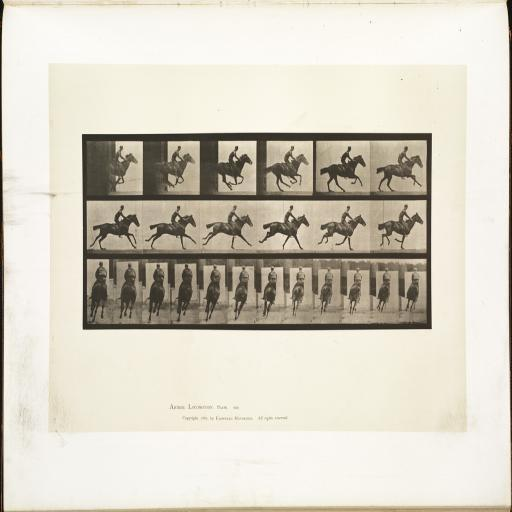horse: (142, 213, 198, 251), (88, 212, 140, 250), (316, 212, 366, 250), (202, 212, 254, 248), (264, 152, 310, 192), (320, 152, 366, 192), (376, 211, 424, 249), (378, 152, 422, 192), (260, 214, 311, 248), (154, 151, 196, 187), (215, 152, 253, 190), (106, 151, 140, 191), (88, 282, 108, 325), (176, 283, 194, 324), (119, 284, 138, 320), (146, 284, 164, 320), (204, 284, 220, 322), (262, 284, 278, 317), (233, 286, 247, 320), (290, 286, 306, 315), (318, 284, 333, 313), (348, 284, 361, 315), (378, 284, 392, 312), (406, 284, 420, 310)
